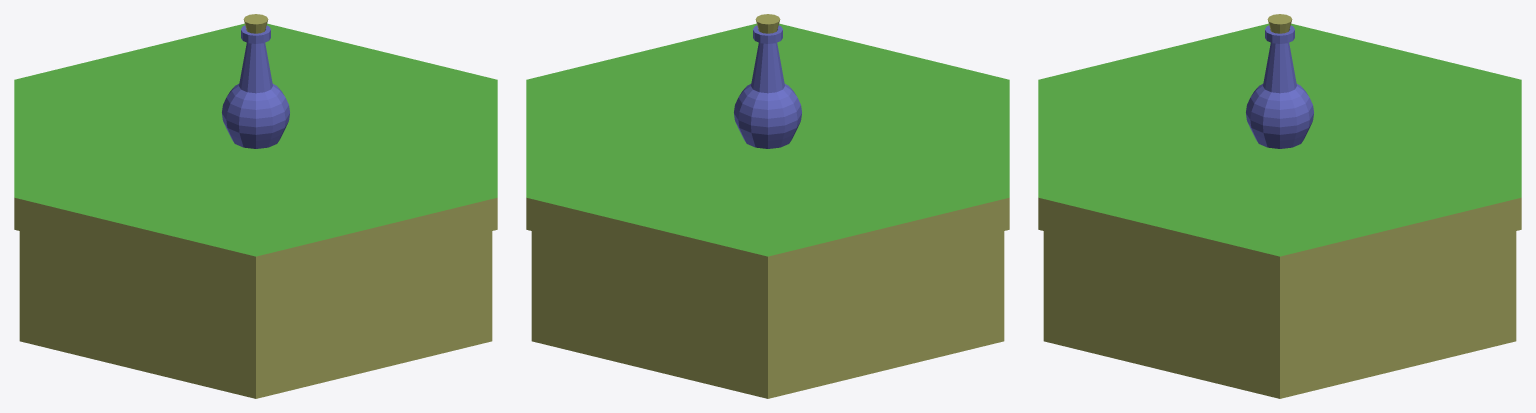
Rendered from Extra_Step_tile.fbx.
3 views of the same model, side by side, from view 1: azimuth 30°, elevation 25°; view 2: azimuth 150°, elevation 25°; view 3: azimuth 270°, elevation 25° (orthographic).
Visible parts, largest first — view 1: pSphere2; view 2: pSphere2; view 3: pSphere2.
Boxes of the visible parts, left/top/right/bottom form: pSphere2: left=14, top=14, right=497, bottom=398; pSphere2: left=526, top=14, right=1009, bottom=398; pSphere2: left=1038, top=14, right=1521, bottom=398.
Size of the model in its own units: 9.25 by 4.84 by 8.01.
